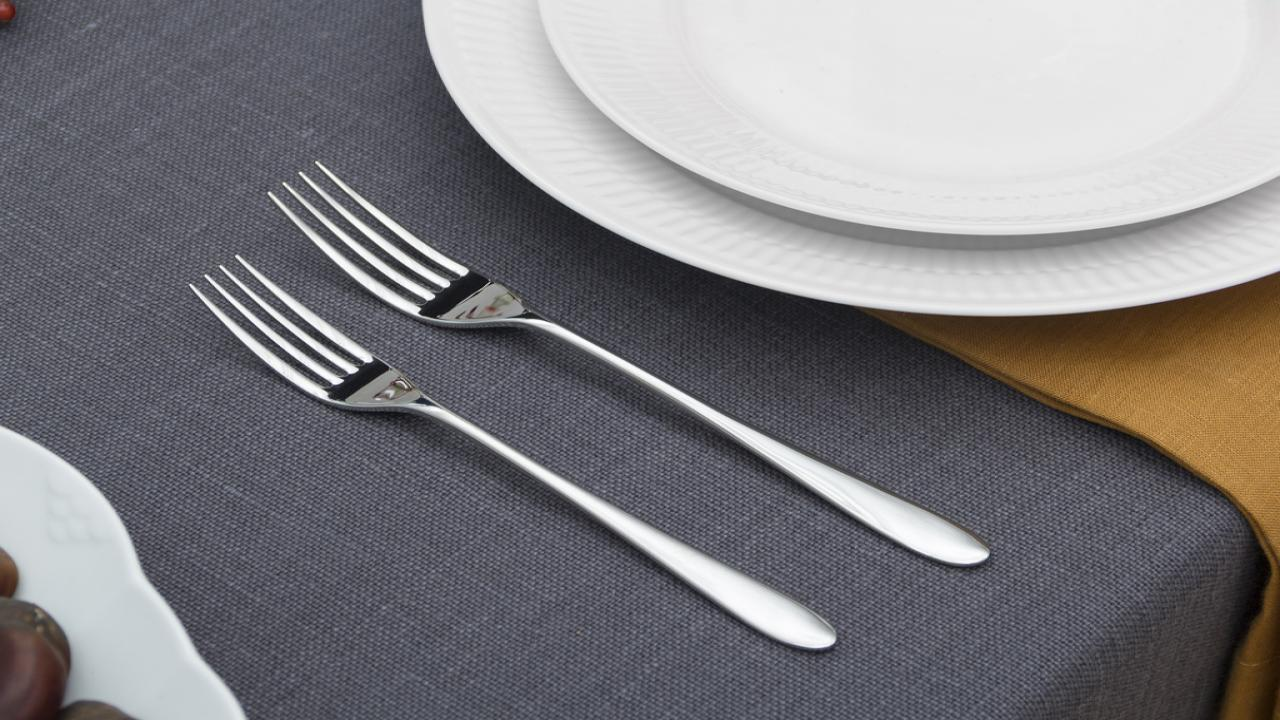fork: (260, 155, 996, 572), (186, 252, 844, 654)
